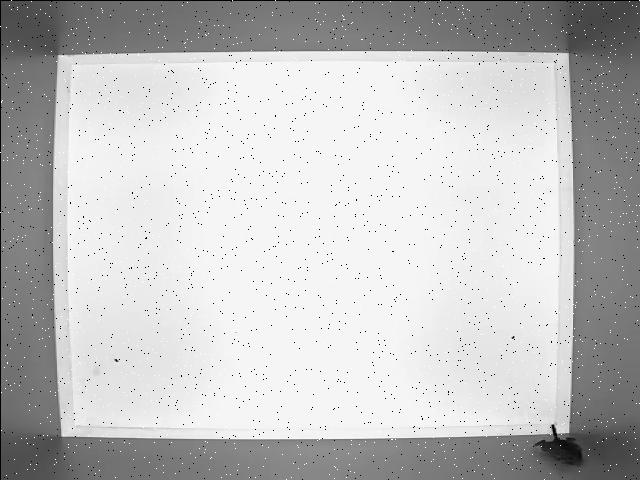Tikus: (530, 421, 584, 471)
